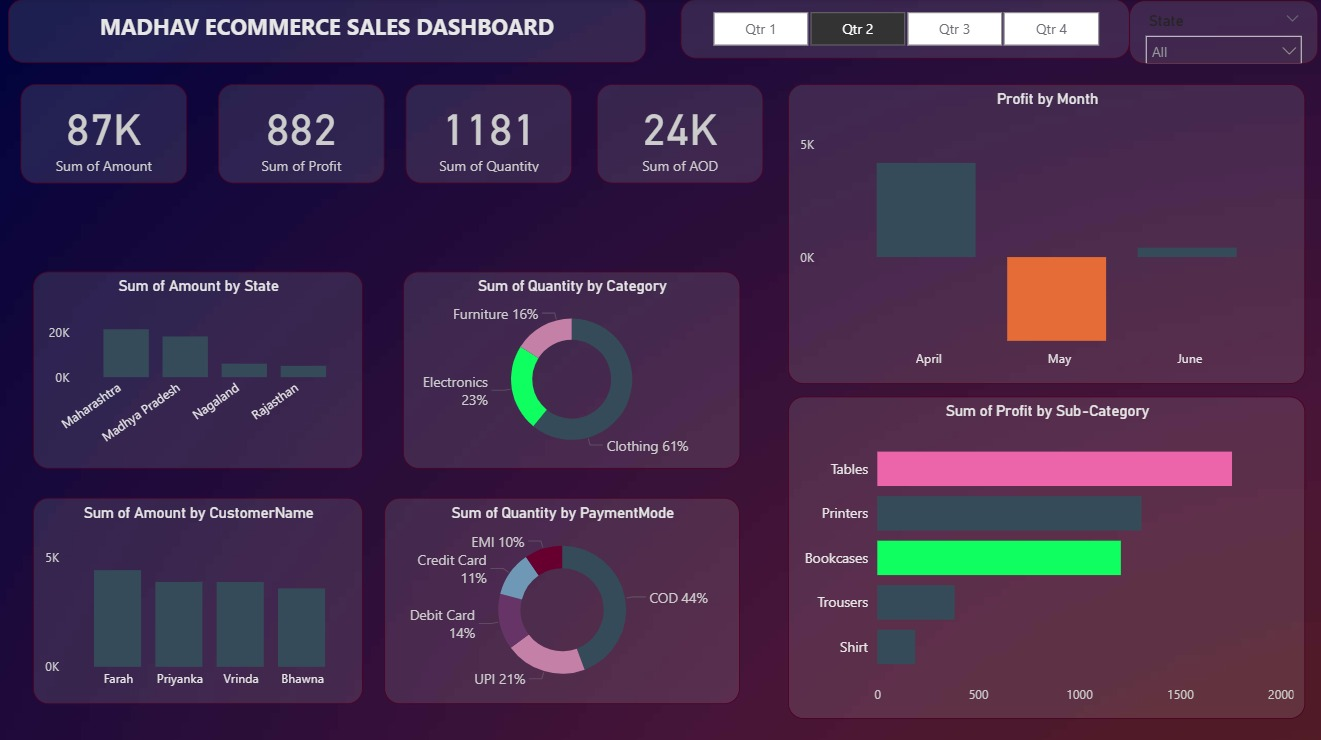

This screenshot's page, from the dashboard's own definition file:
{"tool":"powerbi","page":{"name":"Page 1","canvas":[1280,720],"ordinal":0},"visuals":[{"type":"textbox","box":[9.6,0,616.1,61.7],"z":0},{"type":"columnChart","title":"Profit by Month","fields":{"Y":["Details.Profit"],"Category":["Orders.Order Date.Variation.Date Hierarchy.Month"]},"box":[763,82.3,499.5,289.5],"z":1000},{"type":"barChart","fields":{"Category":["Details.Sub-Category"],"Y":["Details.Profit"]},"box":[763,384.2,499.5,311.5],"z":2000},{"type":"donutChart","fields":{"Category":["Details.Category"],"Y":["Details.Quantity"]},"box":[391.1,263.5,325.2,190.7],"z":3000},{"type":"donutChart","fields":{"Y":["Details.Quantity"],"Category":["Details.PaymentMode"]},"box":[373.2,481.6,343.1,199],"z":4000},{"type":"card","fields":{"Values":["Details.Amount"]},"box":[22,82.3,160.5,96.1],"z":5000},{"type":"card","fields":{"Values":["Details.Profit"]},"box":[212.7,82.3,160.5,96.1],"z":6000},{"type":"card","fields":{"Values":["Details.Quantity"]},"box":[393.8,82.3,160.5,96.1],"z":7000},{"type":"card","fields":{"Values":["Details.AOD"]},"box":[577.7,82.3,160.5,96.1],"z":8000},{"type":"columnChart","fields":{"Category":["Orders.State"],"Y":["Details.Amount"]},"box":[34.3,263.5,318.4,190.7],"z":9000},{"type":"columnChart","fields":{"Category":["Orders.CustomerName"],"Y":["Details.Amount"]},"box":[34.3,481.6,318.4,199],"z":10000},{"type":"slicer","fields":{"Values":["Orders.Order Date.Variation.Date Hierarchy.Quarter"]},"box":[658.7,0,433.6,57.6],"z":11000},{"type":"slicer","fields":{"Values":["Orders.State"]},"box":[1092.3,1.4,182.5,61.7],"z":12000}]}

Visuals, with their boxes in screenshot pixels (x1, y1, x2, y2), scaled from the page's 1280x720 canvas onto the 1321x740 screenshot:
textbox: {"left": 10, "top": 0, "right": 646, "bottom": 63}
"Profit by Month" columnChart: {"left": 787, "top": 85, "right": 1303, "bottom": 382}
barChart - Details.Sub-Category x Details.Profit: {"left": 787, "top": 395, "right": 1303, "bottom": 715}
donutChart - Details.Category x Details.Quantity: {"left": 404, "top": 271, "right": 739, "bottom": 467}
donutChart - Details.Quantity x Details.PaymentMode: {"left": 385, "top": 495, "right": 739, "bottom": 700}
card - Details.Amount: {"left": 23, "top": 85, "right": 188, "bottom": 183}
card - Details.Profit: {"left": 220, "top": 85, "right": 385, "bottom": 183}
card - Details.Quantity: {"left": 406, "top": 85, "right": 572, "bottom": 183}
card - Details.AOD: {"left": 596, "top": 85, "right": 762, "bottom": 183}
columnChart - Orders.State x Details.Amount: {"left": 35, "top": 271, "right": 364, "bottom": 467}
columnChart - Orders.CustomerName x Details.Amount: {"left": 35, "top": 495, "right": 364, "bottom": 700}
slicer - Orders.Order Date.Variation.Date Hierarchy.Quarter: {"left": 680, "top": 0, "right": 1127, "bottom": 59}
slicer - Orders.State: {"left": 1127, "top": 1, "right": 1316, "bottom": 65}
